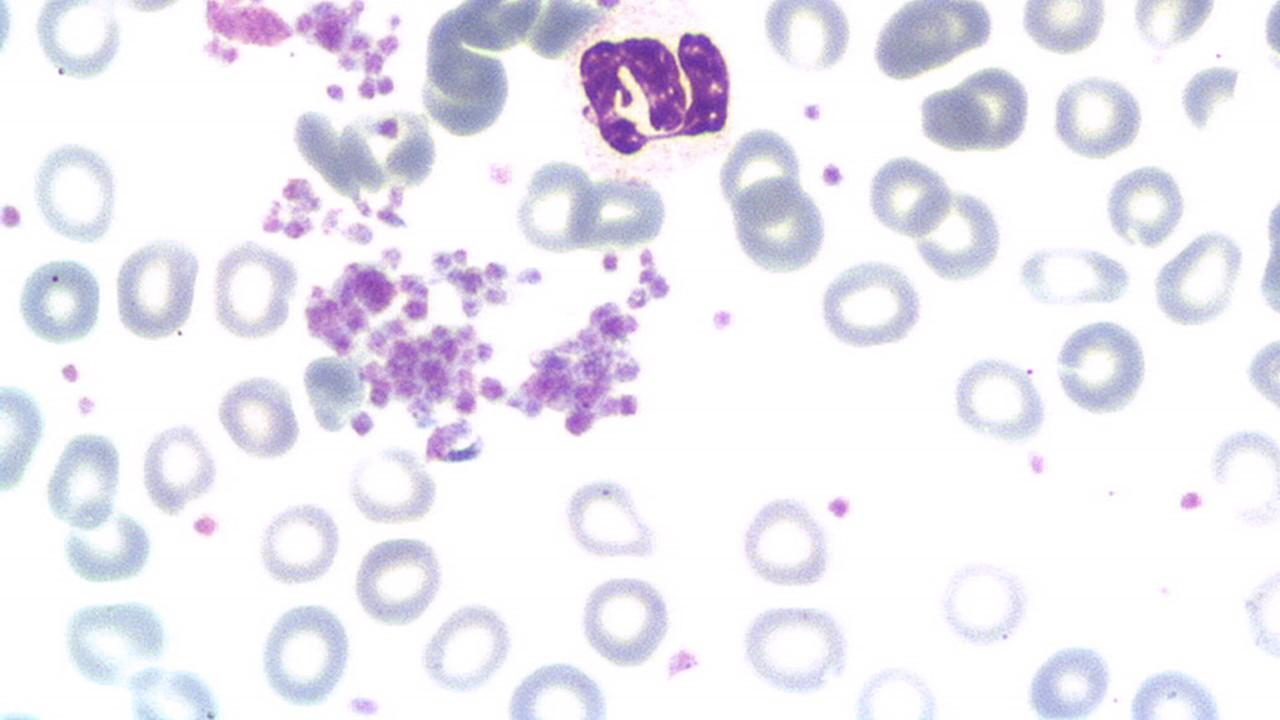Platelets: (1242, 333, 1280, 415), (426, 418, 488, 468), (662, 642, 704, 684), (188, 509, 225, 543), (342, 691, 388, 718), (483, 157, 515, 192), (280, 174, 313, 205), (824, 490, 854, 524), (478, 374, 510, 405), (283, 212, 316, 242), (1174, 485, 1208, 514), (642, 270, 672, 302), (818, 159, 848, 191), (1023, 446, 1051, 479), (368, 113, 402, 140), (348, 408, 376, 439), (513, 264, 545, 288), (57, 360, 84, 388), (73, 392, 100, 420), (322, 80, 350, 105), (483, 259, 511, 284), (625, 287, 652, 311), (374, 73, 398, 99), (259, 212, 285, 236), (598, 249, 622, 274), (800, 100, 824, 124), (638, 244, 658, 268), (638, 266, 661, 286), (386, 10, 404, 32)
RBC: (415, 1, 522, 141), (733, 600, 856, 700), (54, 593, 178, 691), (255, 595, 353, 713), (814, 254, 924, 354), (726, 172, 830, 277), (30, 133, 123, 248), (1050, 316, 1152, 420), (865, 1, 995, 82), (930, 554, 1036, 652), (922, 64, 1037, 154), (112, 230, 203, 343), (735, 490, 837, 590), (416, 600, 517, 700), (1151, 224, 1245, 330), (948, 351, 1050, 448), (574, 572, 674, 670), (559, 472, 667, 562), (208, 236, 297, 344), (56, 494, 157, 589), (910, 186, 1007, 284), (350, 531, 447, 628), (1048, 70, 1146, 162), (13, 253, 106, 347), (941, 63, 1036, 155), (1014, 240, 1135, 312), (42, 428, 124, 532), (214, 368, 304, 462), (716, 124, 802, 222), (254, 496, 344, 588), (512, 158, 598, 254), (1207, 421, 1280, 534), (344, 441, 440, 525), (29, 3, 128, 84), (1021, 638, 1121, 718), (572, 172, 670, 250), (138, 418, 219, 512), (1100, 162, 1186, 250), (864, 152, 952, 238), (758, 1, 856, 76), (500, 656, 614, 716), (118, 660, 235, 717), (1119, 661, 1231, 718), (0, 379, 48, 498), (1251, 162, 1280, 343), (1016, 3, 1110, 57), (1128, 1, 1218, 54), (1238, 557, 1280, 668), (1175, 65, 1239, 129), (290, 107, 343, 173), (111, 0, 188, 19), (1260, 0, 1280, 68), (0, 1, 17, 60)
WBC: (570, 4, 740, 183)
